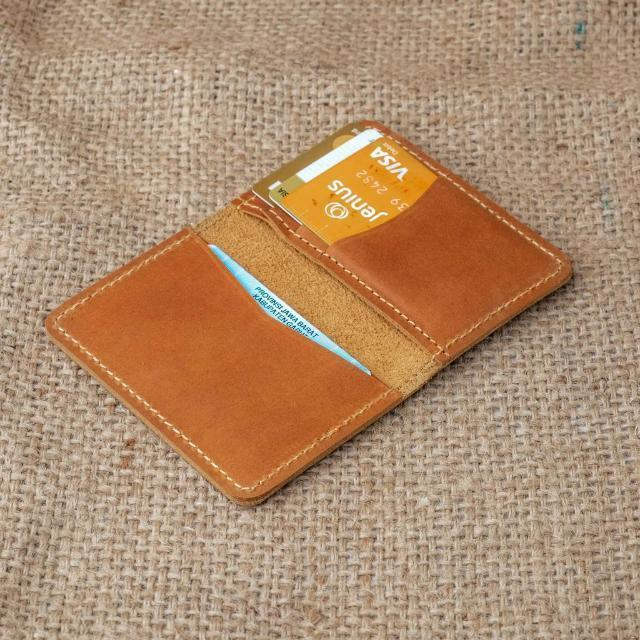wallet: (44, 115, 578, 505)
